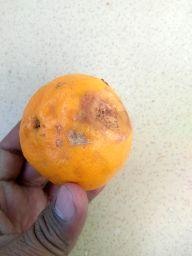Unripe: (21, 75, 129, 188)
